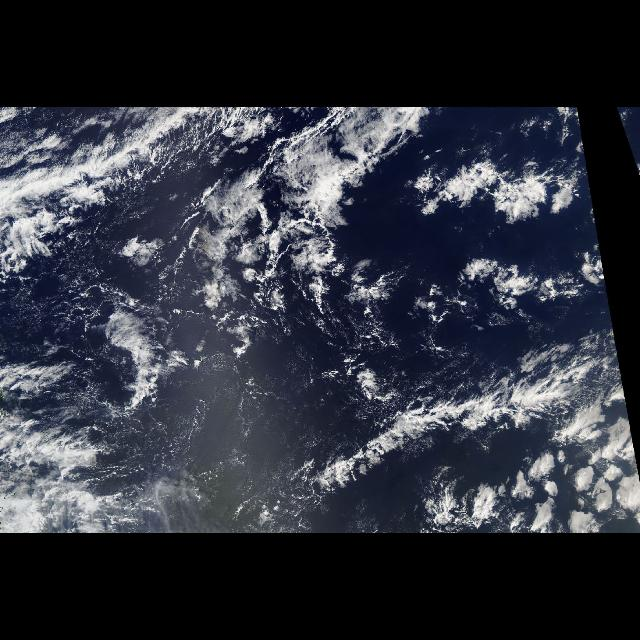Fish: (240, 328, 634, 502), (3, 107, 238, 227)
Flower: (423, 160, 587, 328), (491, 447, 634, 531)
